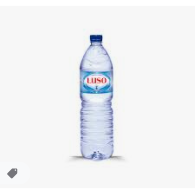Bottle: (82, 35, 115, 160)
